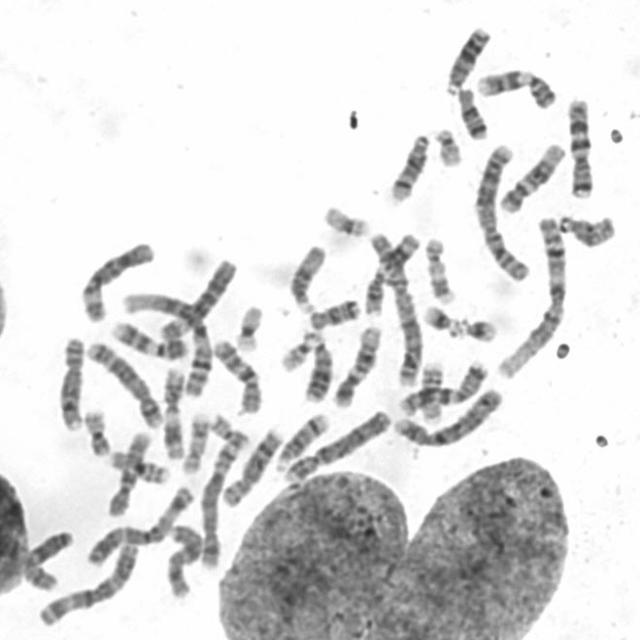A1: (491, 208, 570, 382), (114, 282, 212, 398)
A2: (362, 225, 424, 389), (468, 137, 532, 283)
A3: (30, 534, 142, 628), (81, 478, 197, 568)
B4: (276, 402, 393, 484), (388, 381, 505, 450)
B5: (80, 332, 164, 430), (194, 430, 247, 570)
C10: (100, 423, 153, 518), (207, 331, 265, 416)
C11: (358, 226, 422, 316), (156, 360, 188, 461)
C12: (494, 135, 568, 214), (326, 318, 385, 409)
C6: (152, 250, 239, 342), (75, 234, 157, 323)
C7: (392, 352, 492, 419), (562, 90, 596, 200)
C8: (216, 420, 286, 509), (52, 329, 88, 432)
C9: (470, 61, 559, 110), (105, 312, 192, 361)
D13: (439, 18, 493, 96), (297, 327, 334, 403)
D14: (270, 405, 331, 473), (383, 125, 433, 205)
D15: (282, 237, 327, 315), (558, 212, 618, 252)
E16: (103, 444, 171, 486), (413, 355, 448, 424)
E17: (418, 229, 458, 305), (175, 406, 212, 476)
E18: (452, 80, 491, 141), (303, 292, 362, 331)
F19: (317, 198, 373, 238), (229, 297, 266, 353)
F20: (204, 406, 251, 449), (78, 402, 112, 457)
G21: (418, 296, 466, 338), (456, 310, 500, 344)
G22: (273, 324, 322, 373), (428, 120, 465, 168)
X: (15, 524, 74, 593), (158, 517, 206, 601)
